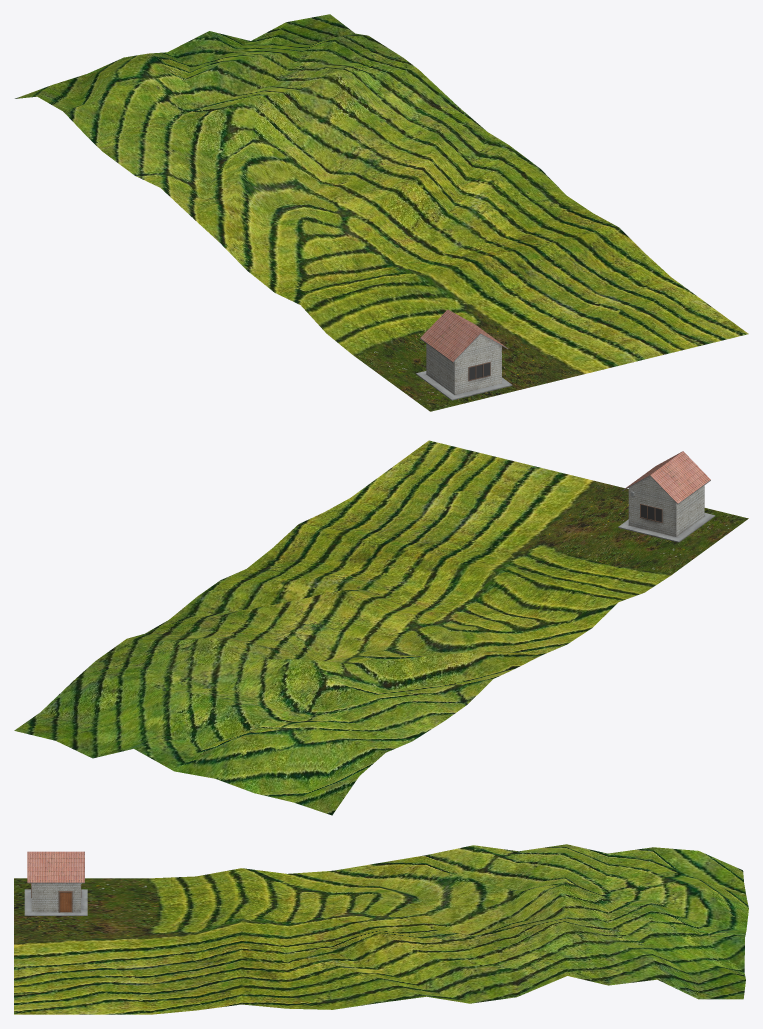
File: ground model.fbx
3 views of the same model, one above another, from view 1: azimuth 30°, elevation 25°; view 2: azimuth 150°, elevation 25°; view 3: azimuth 270°, elevation 25° (orthographic). The views are drawn at different scales.
Parts seen in each view (by area): view 1: Ladang Teh, Rumah Ladang; view 2: Ladang Teh, Rumah Ladang; view 3: Ladang Teh, Rumah Ladang.
Part boxes in pixels (box(x1,y1,x2,y2)): Ladang Teh: box(15, 14, 748, 411); Rumah Ladang: box(416, 309, 512, 400); Ladang Teh: box(14, 440, 748, 815); Rumah Ladang: box(618, 451, 715, 542); Ladang Teh: box(14, 844, 748, 1014); Rumah Ladang: box(24, 851, 87, 915).
Size of the model in its own units: 4036 by 686 by 8837.
